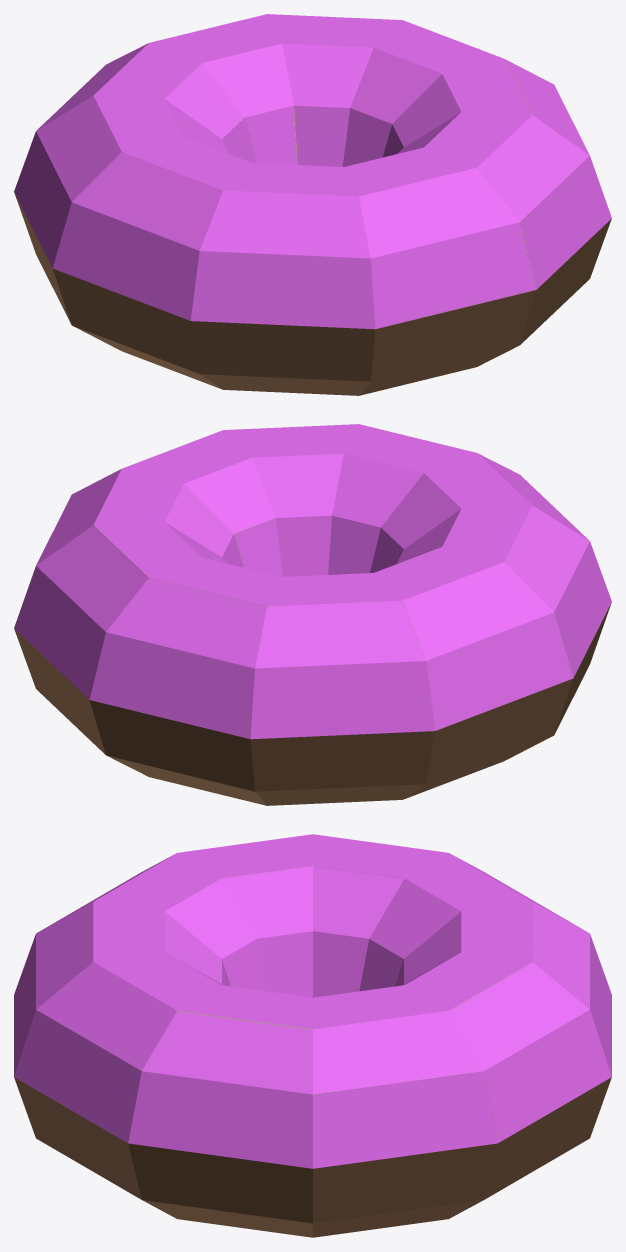
File: Donut.obj
3 renders of one model, top to bottom at view 1: azimuth 30°, elevation 25°; view 2: azimuth 150°, elevation 25°; view 3: azimuth 270°, elevation 25°, orthographic. The views are drawn at different scales.
Parts seen in each view (by area): view 1: Torus; view 2: Torus; view 3: Torus.
Boxes of the visible parts, x1,y1,x2,y2 form: Torus: (14,14,611,395); Torus: (14,424,611,805); Torus: (14,834,611,1237).
Size of the model in its own units: 2.6 by 0.9511 by 2.47.
Materials: 2 (1 with a texture image).
